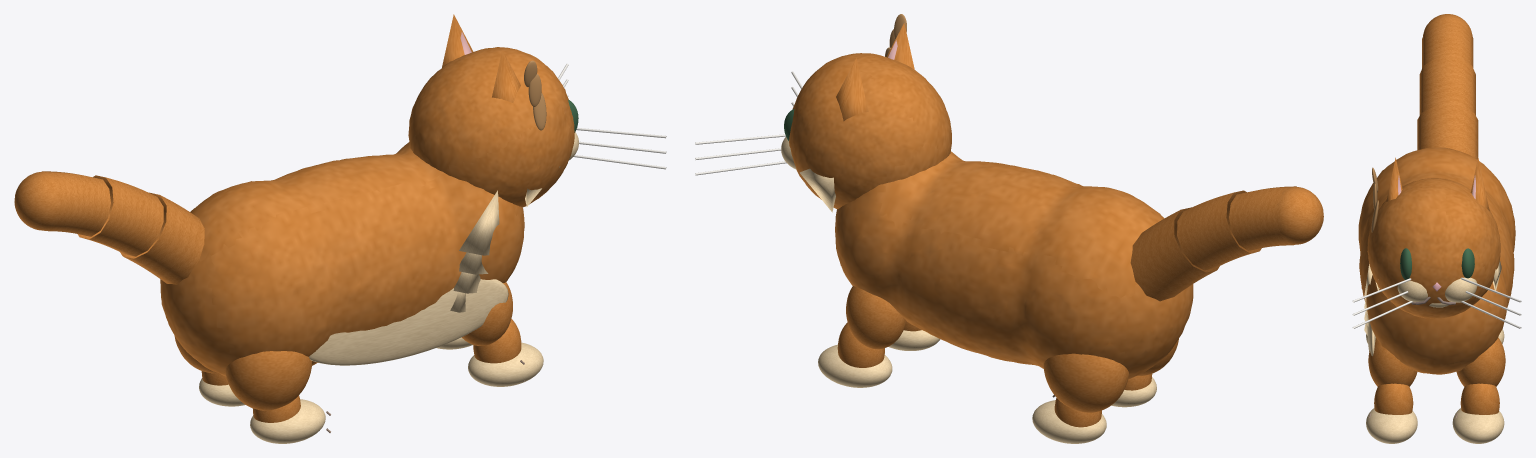
Rendered from cat-orange.glb.
3 renders of one model, left to right at view 1: azimuth 30°, elevation 25°; view 2: azimuth 150°, elevation 25°; view 3: azimuth 270°, elevation 25°, orthographic. The views are drawn at different scales.
Parts seen in each view (by area): view 1: Body.001, HeadMesh.001, BellyPatch.001, UpperLeg_BL.001, TailMesh_1.001, TailMesh_0.001, TailMesh_2.001, TailTip.001, Paw_FL.001, Paw_BL.001, UpperLeg_FL.001, ChestTuft_0.001 (+5 smaller); view 2: Body.001, HeadMesh.001, TailMesh_0.001, UpperLeg_BR.001, TailMesh_1.001, TailMesh_2.001, UpperLeg_FR.001, TailTip.001, Paw_FR.001, Paw_BR.001, LowerLeg_FR.001, Ear_Far.001 (+4 smaller); view 3: Body.001, HeadMesh.001, TailMesh_1.001, TailMesh_0.001, TailMesh_2.001, UpperLeg_FR.001, Paw_FL.001, Paw_FR.001, UpperLeg_FL.001, LowerLeg_FL.001, LowerLeg_FR.001, Muzzle_Far.001 (+7 smaller).
Boxes of the visible parts, x1,y1,x2,y2 form: Body.001: [160, 142, 524, 376]; HeadMesh.001: [408, 47, 574, 207]; BellyPatch.001: [309, 279, 508, 365]; UpperLeg_BL.001: [225, 351, 312, 410]; TailMesh_1.001: [77, 175, 163, 256]; TailMesh_0.001: [120, 192, 204, 284]; TailMesh_2.001: [42, 171, 110, 236]; TailTip.001: [14, 171, 61, 230]; Paw_FL.001: [468, 342, 543, 386]; Paw_BL.001: [250, 399, 325, 443]; UpperLeg_FL.001: [462, 282, 512, 345]; ChestTuft_0.001: [459, 190, 499, 255]; Body.001: [835, 151, 1193, 379]; HeadMesh.001: [789, 53, 951, 208]; TailMesh_0.001: [1130, 207, 1219, 301]; UpperLeg_BR.001: [1043, 353, 1128, 412]; TailMesh_1.001: [1177, 190, 1261, 270]; TailMesh_2.001: [1229, 186, 1296, 250]; UpperLeg_FR.001: [846, 286, 906, 349]; TailTip.001: [1277, 187, 1323, 244]; Paw_FR.001: [818, 344, 892, 387]; Paw_BR.001: [1032, 400, 1106, 443]; LowerLeg_FR.001: [837, 322, 884, 367]; Ear_Far.001: [836, 58, 868, 121]; Body.001: [1358, 147, 1515, 374]; HeadMesh.001: [1367, 178, 1500, 318]; TailMesh_1.001: [1419, 57, 1475, 115]; TailMesh_0.001: [1417, 106, 1478, 159]; TailMesh_2.001: [1422, 19, 1473, 68]; UpperLeg_FR.001: [1456, 337, 1505, 386]; Paw_FL.001: [1366, 408, 1417, 443]; Paw_FR.001: [1452, 408, 1504, 443]; UpperLeg_FL.001: [1368, 338, 1417, 386]; LowerLeg_FL.001: [1374, 383, 1413, 414]; LowerLeg_FR.001: [1460, 383, 1499, 414]; Muzzle_Far.001: [1445, 277, 1477, 302].
Bounding box in the file's own units: 3.23 × 1.74 × 0.9401.
14 materials, 2 textured.
